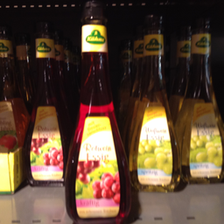vinegar: (64, 14, 139, 221), (131, 29, 184, 192), (178, 32, 224, 184), (23, 37, 68, 186)
